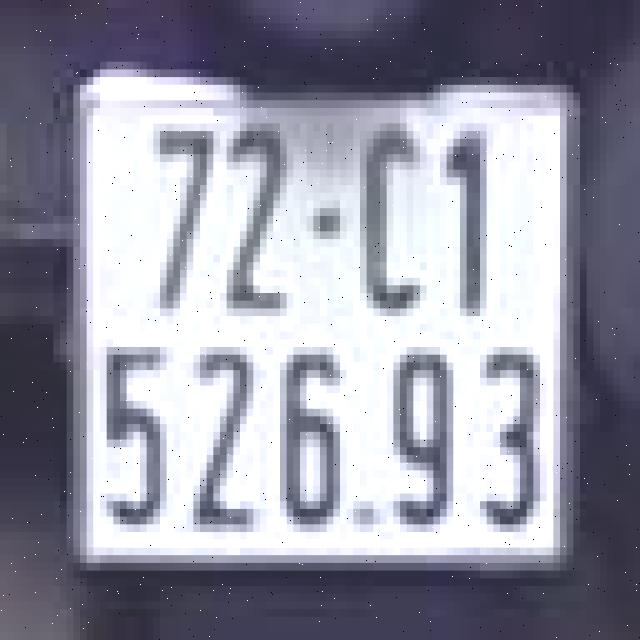1: (444, 120, 504, 320)
2: (186, 332, 266, 532), (223, 116, 297, 324)
3: (467, 336, 553, 552)
5: (87, 328, 180, 551)
6: (276, 336, 356, 544)
7: (147, 123, 220, 324)
9: (380, 343, 467, 551)
C: (350, 108, 430, 332)
